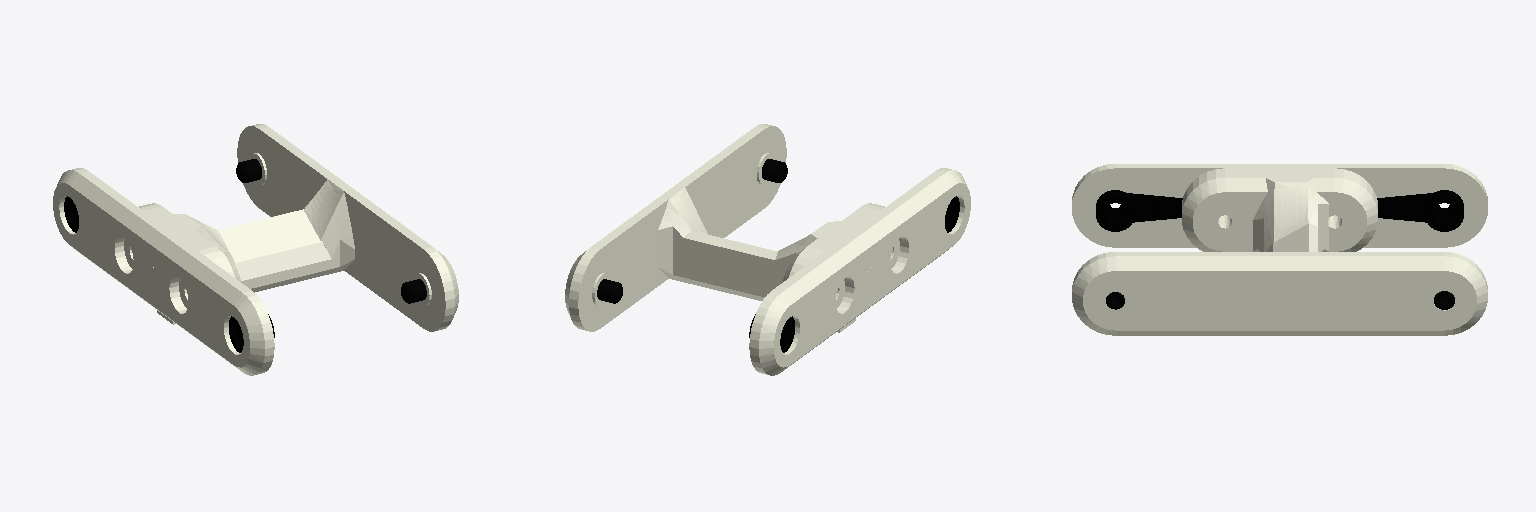
The model's file is femur.obj.
3 views of the same model, side by side, from view 1: azimuth 30°, elevation 25°; view 2: azimuth 150°, elevation 25°; view 3: azimuth 270°, elevation 25° (orthographic).
Parts seen in each view (by area): view 1: Solid1, Solid1:1; view 2: Solid1, Solid1:1; view 3: Solid1, Solid1:1, Solid1:2, Solid1:3.
Part boxes in pixels (x1,y1,x2,y2): Solid1: (139, 124, 458, 331); Solid1:1: (53, 168, 274, 375); Solid1: (565, 124, 884, 332); Solid1:1: (749, 168, 970, 375); Solid1: (1072, 168, 1487, 335); Solid1:1: (1072, 164, 1487, 247); Solid1:2: (1377, 190, 1463, 231); Solid1:3: (1096, 190, 1182, 231).
Bounding box in the file's own units: 44 × 18.5 × 76.